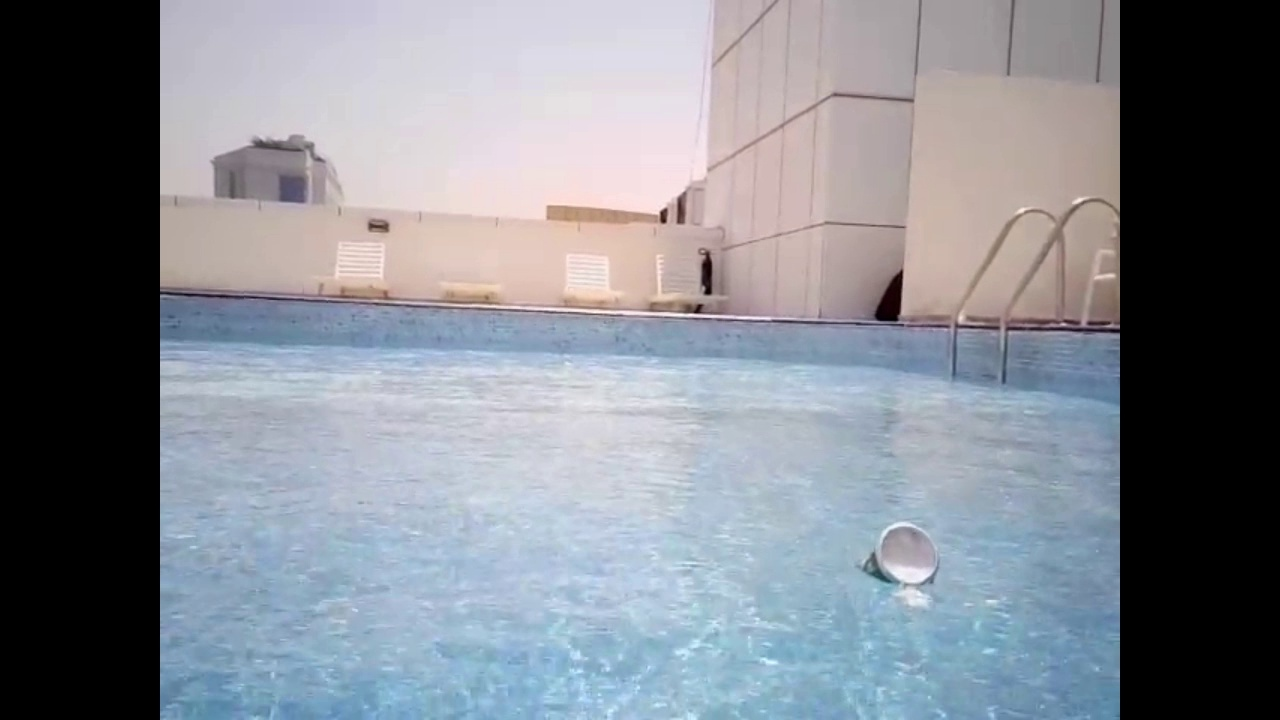debris: (845, 517, 945, 596)
